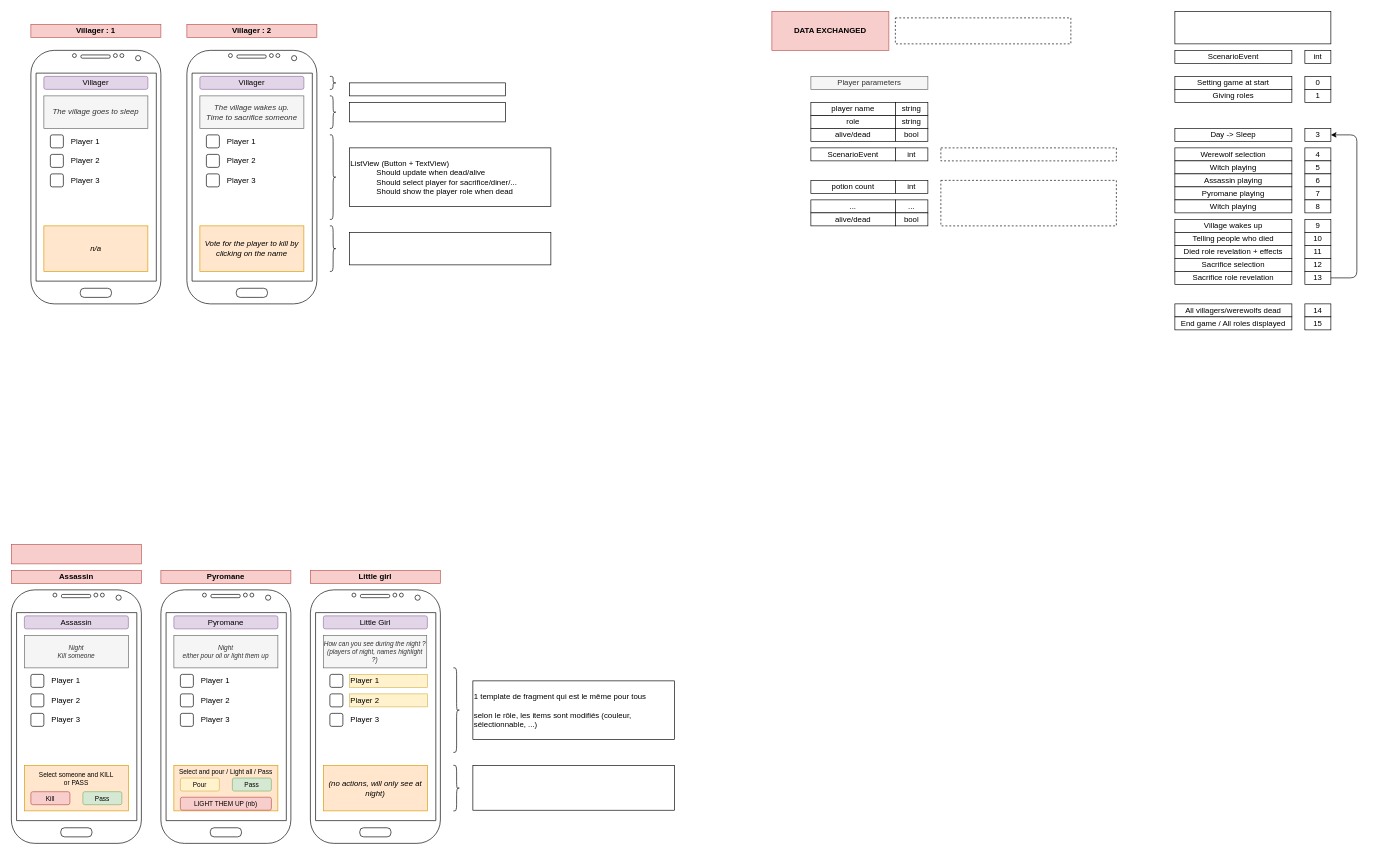
Image size: 1373x855. Some labels were removed from this diagram. The shapes that lost their labels are listed below. From the top down, each one's box as (x1, y1, x2, y2) in pixels, then its label:
(895, 17, 1071, 44): An array is send to all players regularly
(1174, 11, 1331, 44): Integer telling at what event of the plot we are
(349, 82, 505, 96): TextView : won't change during game
(349, 102, 505, 122): Text updating with the events ... ?
(940, 147, 1116, 161): Tells at what point of the story we are
(940, 180, 1116, 226): Roles dependant variables
(349, 232, 551, 265): Actions ... pfew
(11, 544, 141, 564): GENERAL UI
(472, 765, 674, 810): 1 fragment par rôle
